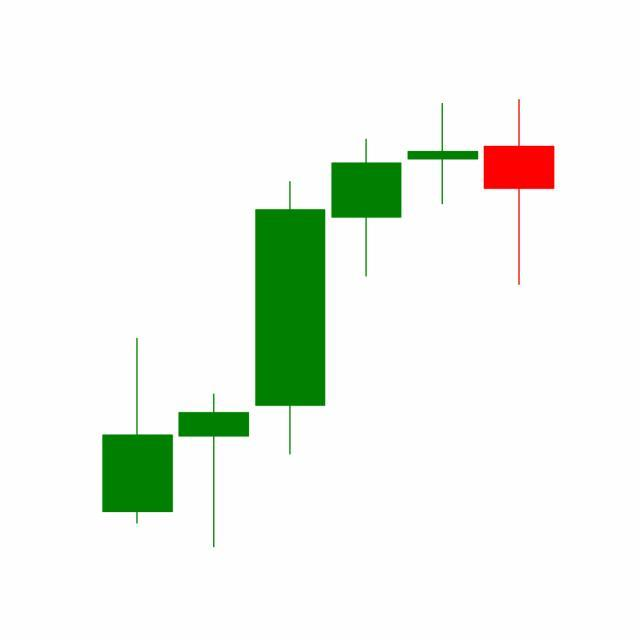Advance Block: (252, 100, 482, 459)
